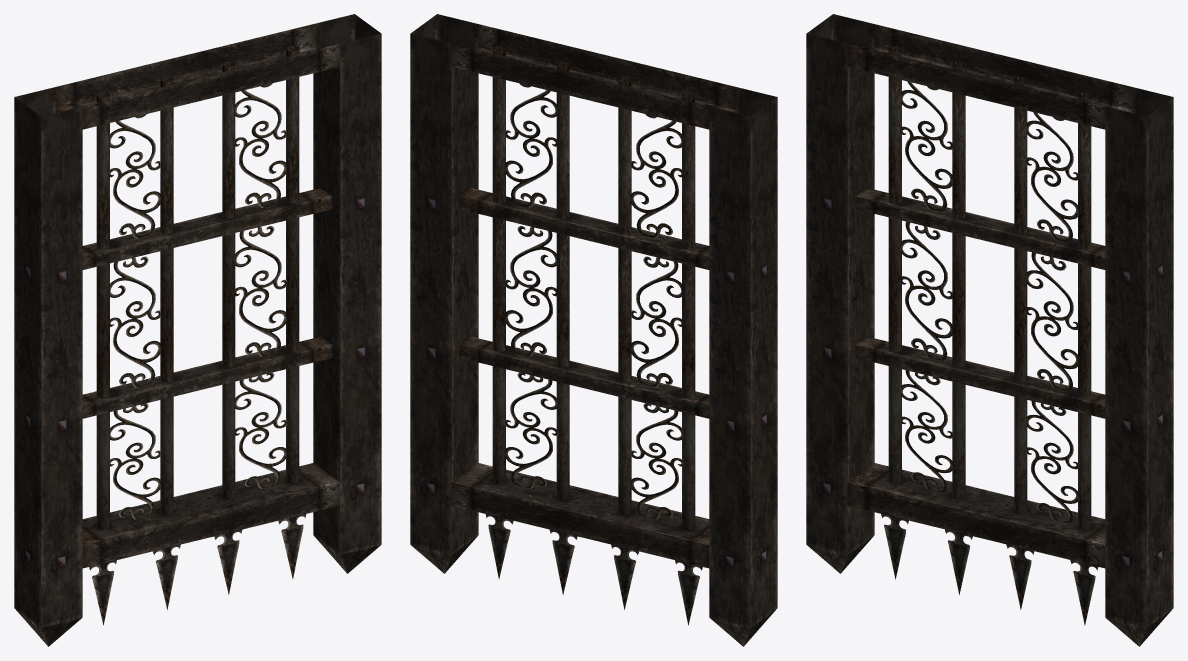
Rendered from castle_portcullis.dae.
The picture shows the model from 3 angles, left to right: view 1: azimuth 30°, elevation 25°; view 2: azimuth 150°, elevation 25°; view 3: azimuth 330°, elevation 25°; orthographic projection.
Parts seen in each view (by area): view 1: portcullis, polySurface24, polySurface26, polySurface27, polySurface22, polySurface21, polySurface15, polySurface14, polySurface13, polySurface12, polySurface25, polySurface23; view 2: portcullis, polySurface24, polySurface26, polySurface27, polySurface22, polySurface21, polySurface15, polySurface14, polySurface13, polySurface12, polySurface25; view 3: portcullis, polySurface24, polySurface26, polySurface27, polySurface22, polySurface21, polySurface14, polySurface12, polySurface15, polySurface13.
Part boxes in pixels (x1,y1,x2,y2): portcullis: (14, 14, 381, 646); polySurface24: (110, 256, 160, 387); polySurface26: (235, 83, 286, 207); polySurface27: (110, 114, 160, 238); polySurface22: (235, 372, 286, 488); polySurface21: (110, 403, 160, 519); polySurface15: (278, 514, 306, 579); polySurface14: (214, 529, 241, 594); polySurface13: (89, 560, 116, 625); polySurface12: (153, 544, 180, 609); polySurface25: (235, 226, 286, 356); polySurface23: (110, 404, 160, 518); portcullis: (410, 14, 777, 646); polySurface24: (631, 256, 681, 387); polySurface26: (505, 83, 556, 207); polySurface27: (631, 114, 681, 238); polySurface22: (505, 373, 556, 488); polySurface21: (631, 403, 681, 519); polySurface15: (485, 514, 513, 579); polySurface14: (550, 529, 577, 594); polySurface13: (675, 560, 702, 625); polySurface12: (611, 544, 638, 609); polySurface25: (505, 226, 556, 356); portcullis: (806, 14, 1173, 646); polySurface24: (901, 222, 952, 360); polySurface26: (1026, 112, 1077, 242); polySurface27: (901, 81, 952, 211); polySurface22: (1026, 401, 1077, 523); polySurface21: (901, 370, 952, 492); polySurface14: (1006, 544, 1034, 609); polySurface12: (945, 529, 972, 594); polySurface15: (1070, 560, 1098, 625); polySurface13: (881, 514, 908, 579).
Bounding box in the file's own units: 1.8 × 2.75 × 0.2444.
